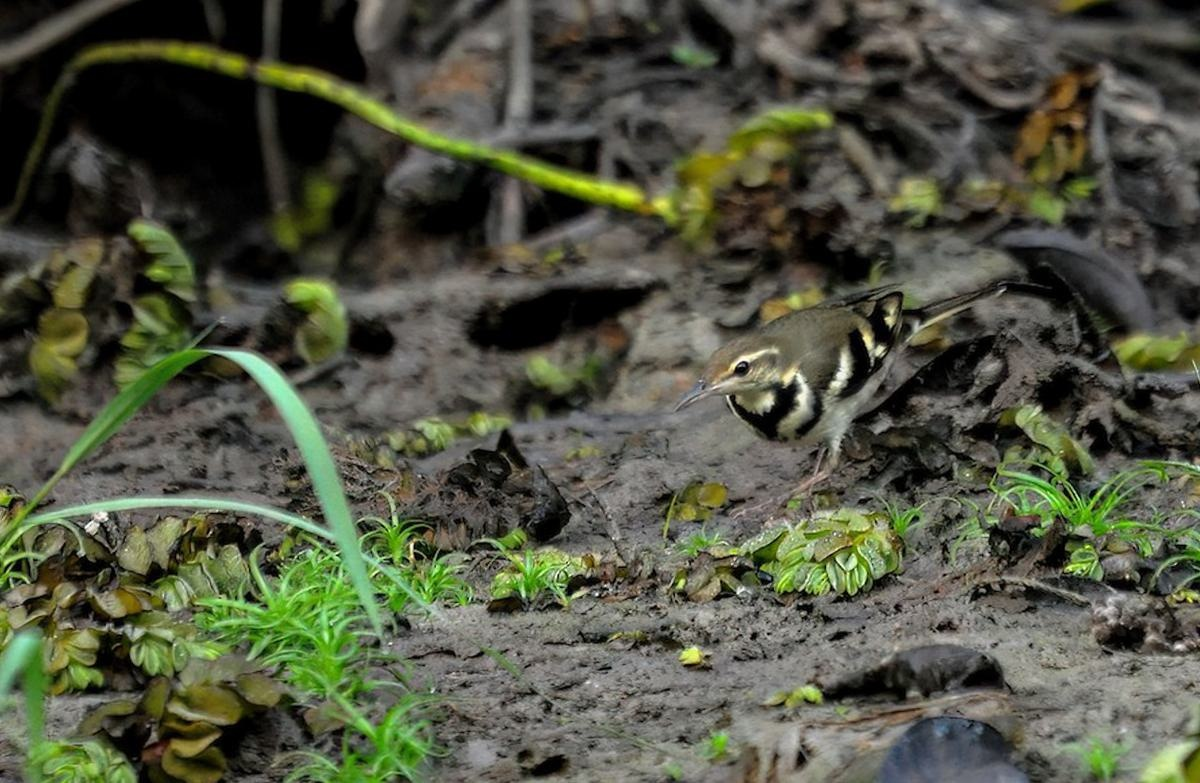wagtail: (686, 268, 954, 525)
